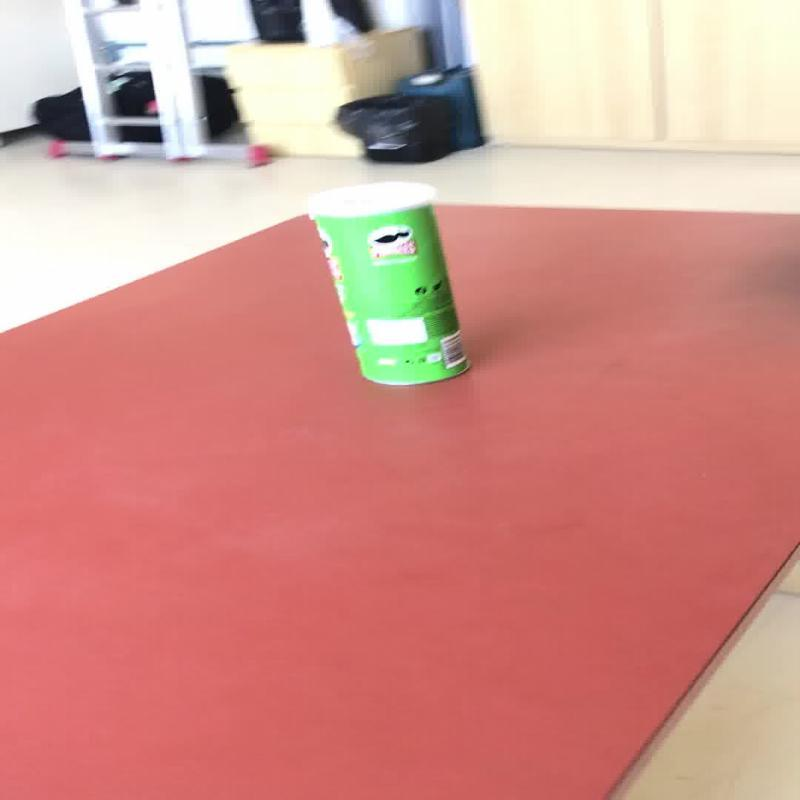pringles: (304, 180, 472, 386)
